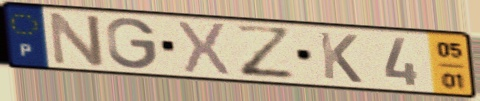4: (382, 36, 421, 87)
G: (104, 16, 159, 71)
K: (316, 30, 365, 85)
N: (47, 10, 108, 69)
X: (175, 19, 232, 79)
Z: (232, 22, 300, 81)
